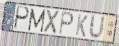K: (75, 14, 89, 39)
M: (27, 8, 47, 34)
P: (13, 5, 31, 31), (58, 11, 75, 36)
U: (88, 14, 107, 41)
X: (43, 9, 61, 36)
